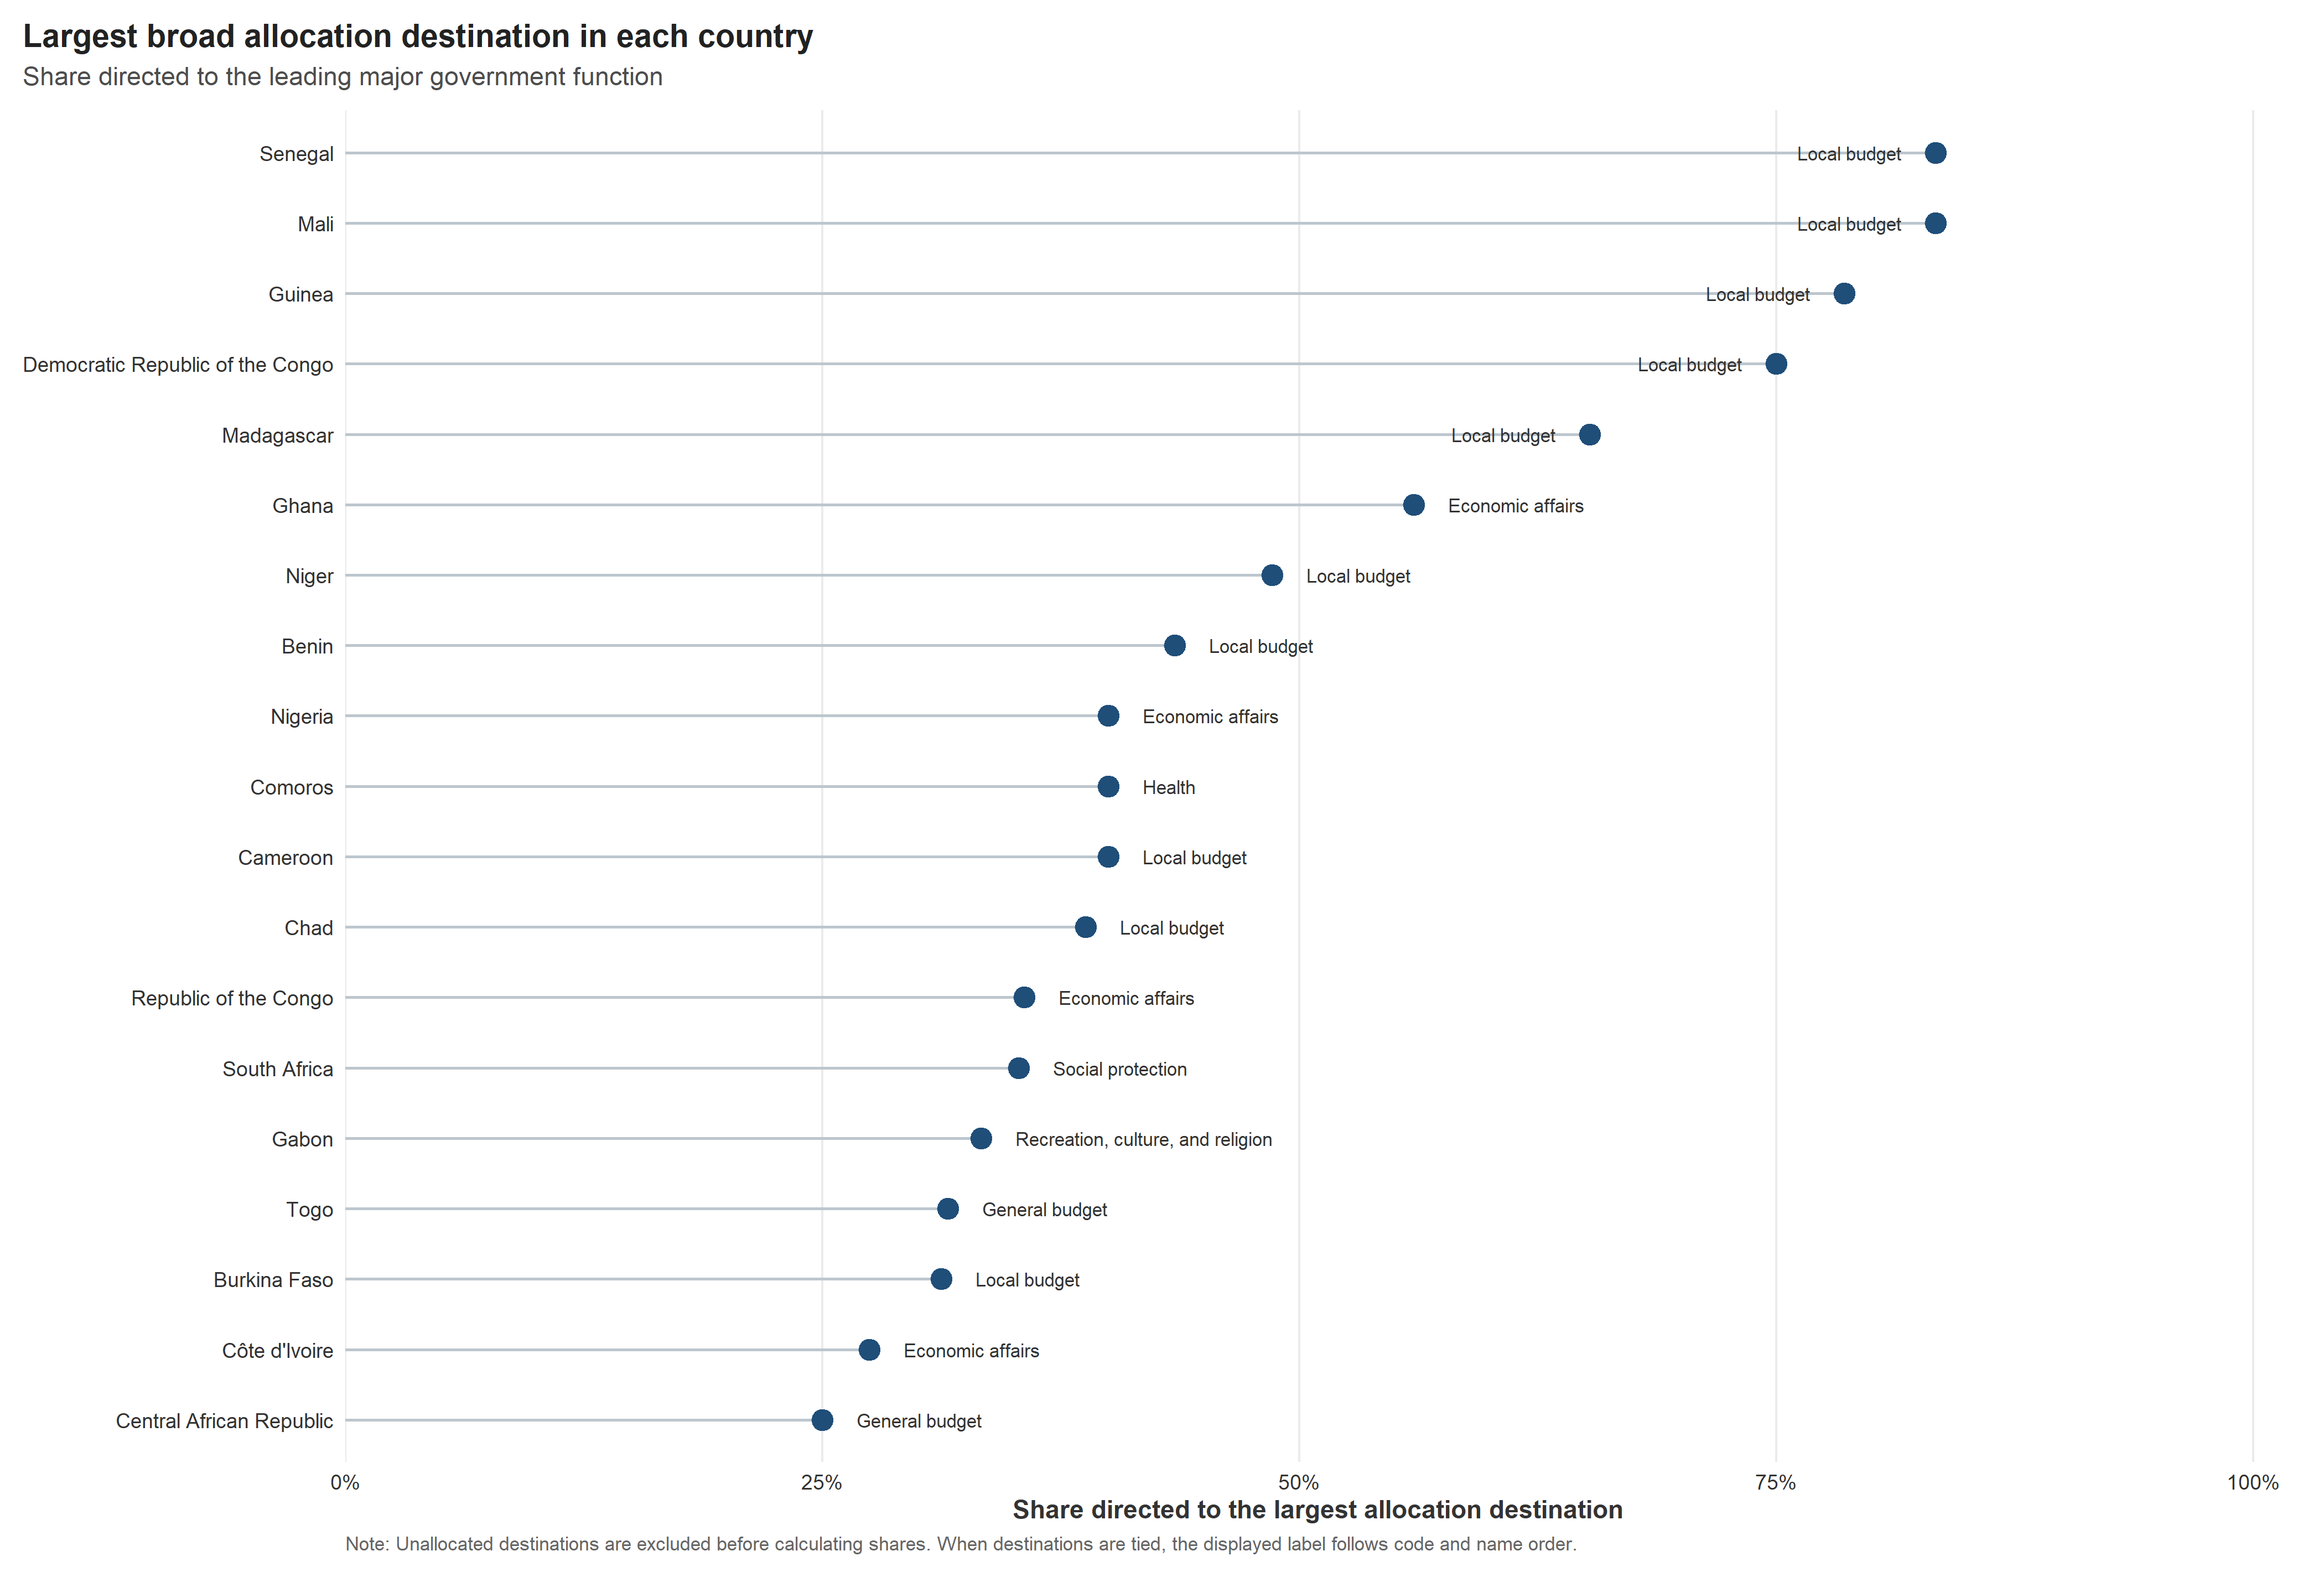

What the dashboard file says about the page in this screenshot:
{"tool":"powerbi","page":{"name":"prevalance earmark","canvas":[1920,1080],"ordinal":3},"visuals":[{"type":"clusteredBarChart","fields":{"Category":["country.country_label"],"Y":["Sum(02_country_summary.allocation_incidence_E_D)"]},"box":[0,0,1920,1080],"z":0}]}

Visuals, with their boxes on the page's 1920x1080 design canvas (x1, y1, x2, y2). These are canvas units, not pixel positions in the 2324x1577 screenshot, which may show the page scaled, cropped or inside an application window:
clusteredBarChart - country.country_label x Sum(02_country_summary.allocation_incidence_E_D): left=0, top=0, right=1920, bottom=1080
